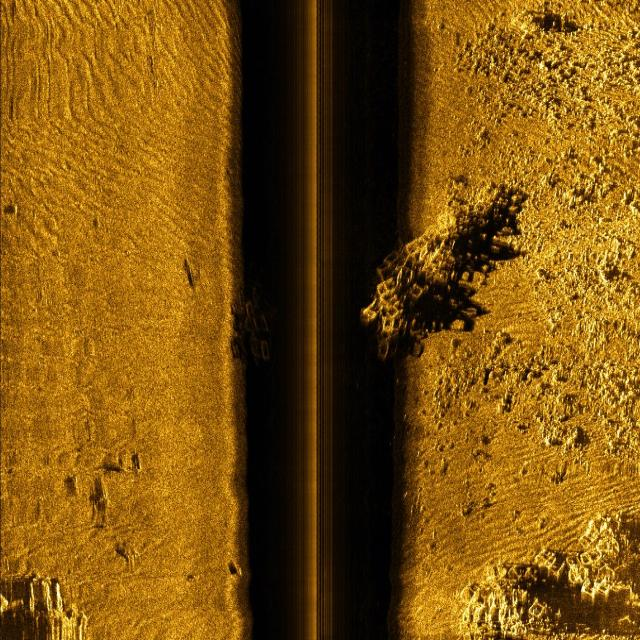artificial reef: (361, 178, 515, 375), (459, 509, 623, 640), (233, 272, 296, 383)
